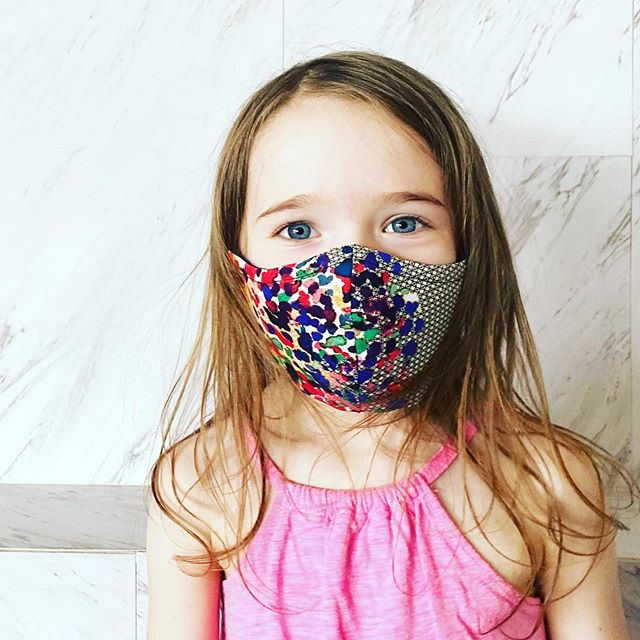homemade: (226, 250, 480, 426)
